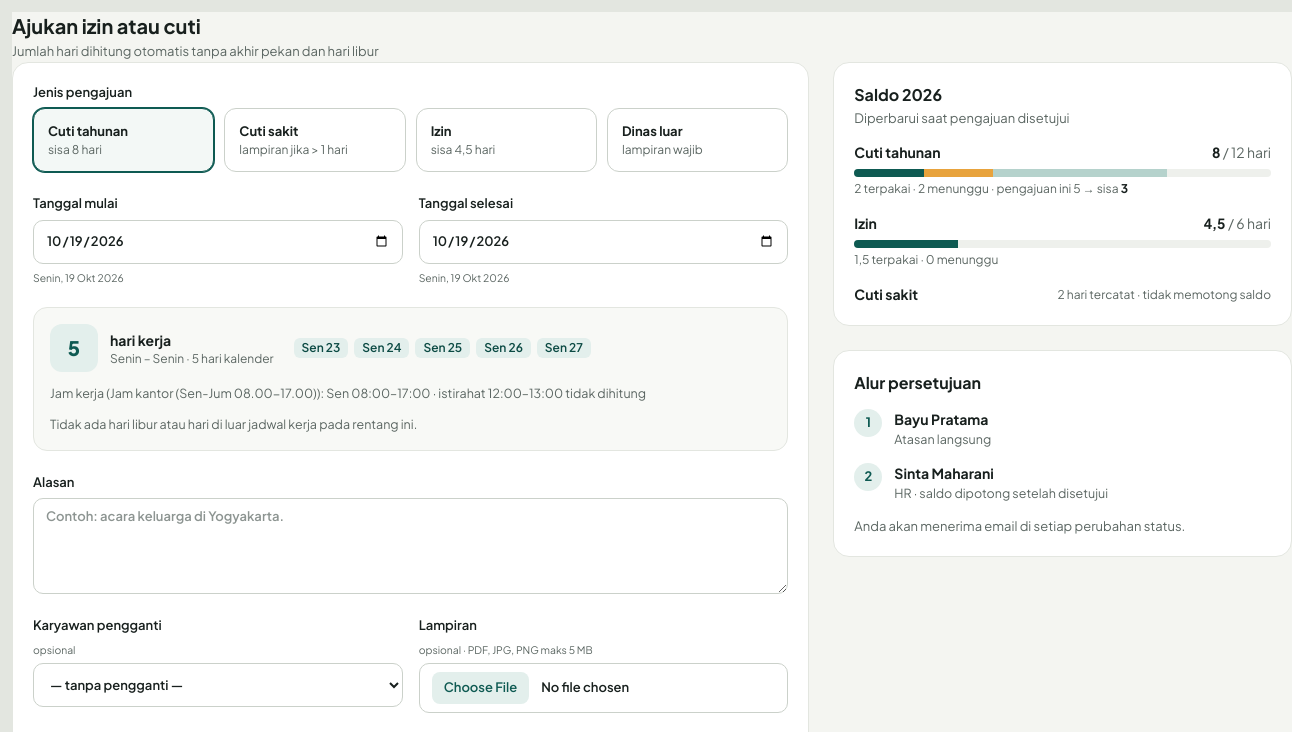
Test: LeaveRequestPage (H-08) › menghitung ulang secara live saat tanggal diubah (dengan jeda) dan memakai tanggal terbaru
This screenshot has width=1292, height=732.
Type "2026-11-25" into the date field with test id "start" at point(218, 242), box [33,220,403,264]
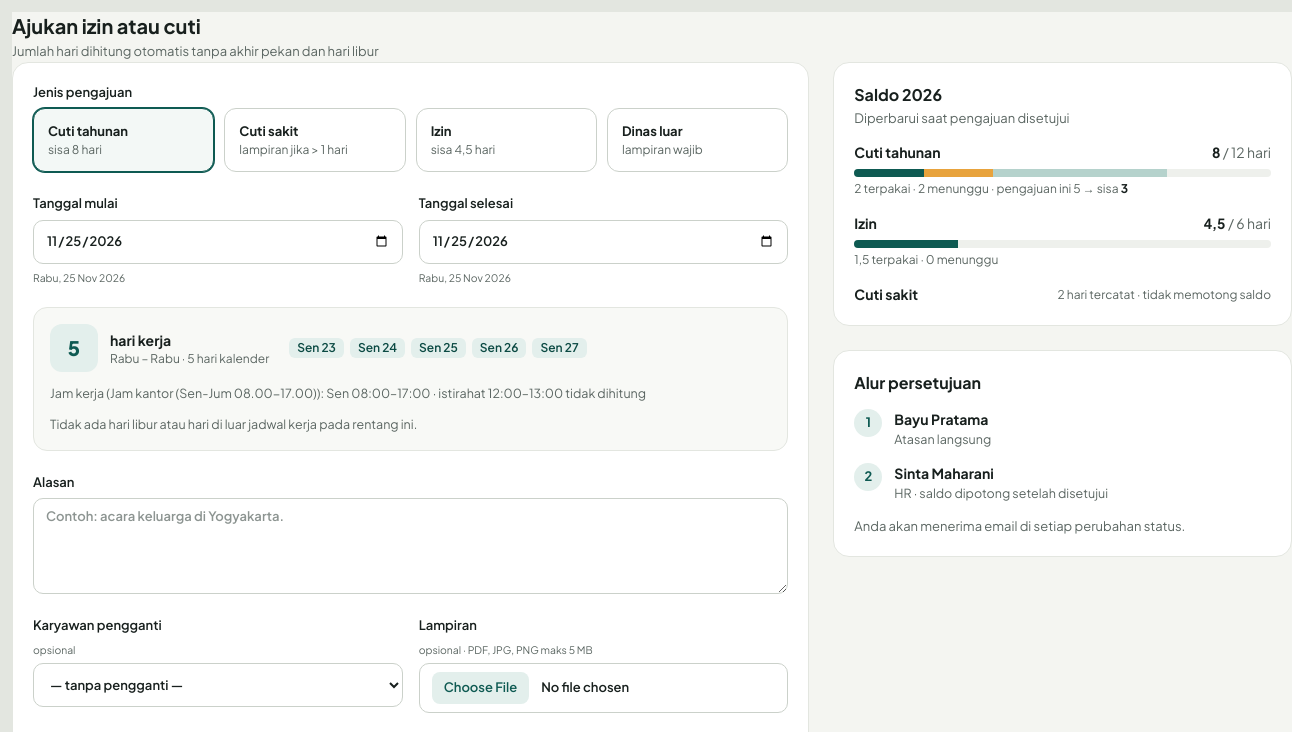
Type "2026-11-27" into the date field with test id "end" at point(604, 242), box [419,220,788,264]
Wait 300 ms
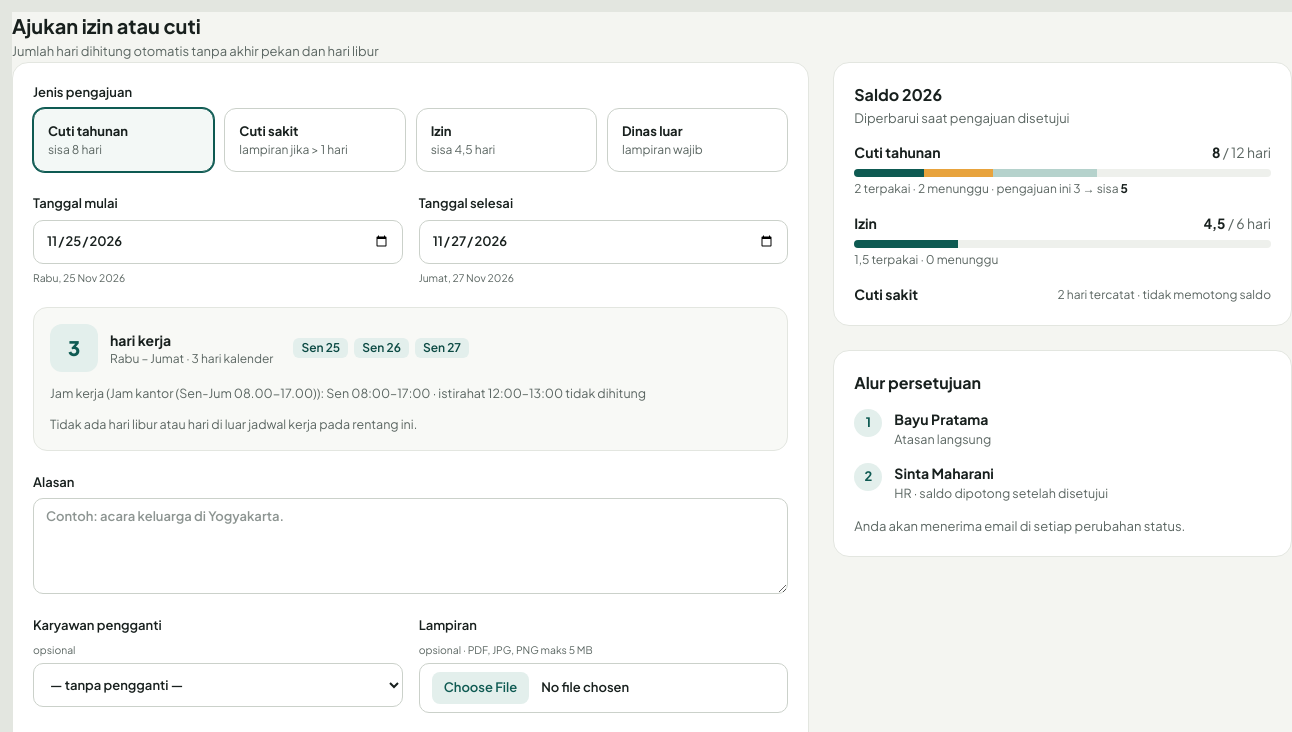
Expected: the text with test id "days" reads "3", [68,335,80,360]
